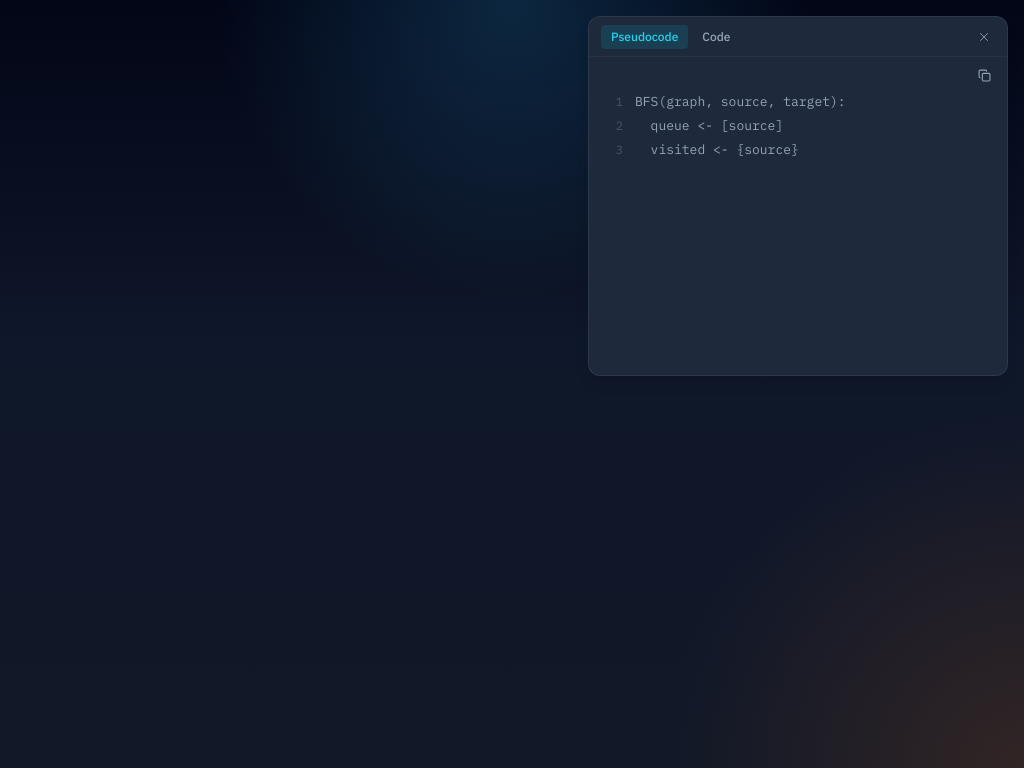
Test: FloatingCodePanel › switches to code tab when clicked
Step 1. Click the button "Code" → click(716, 36), box left=692, top=24, right=740, bottom=48
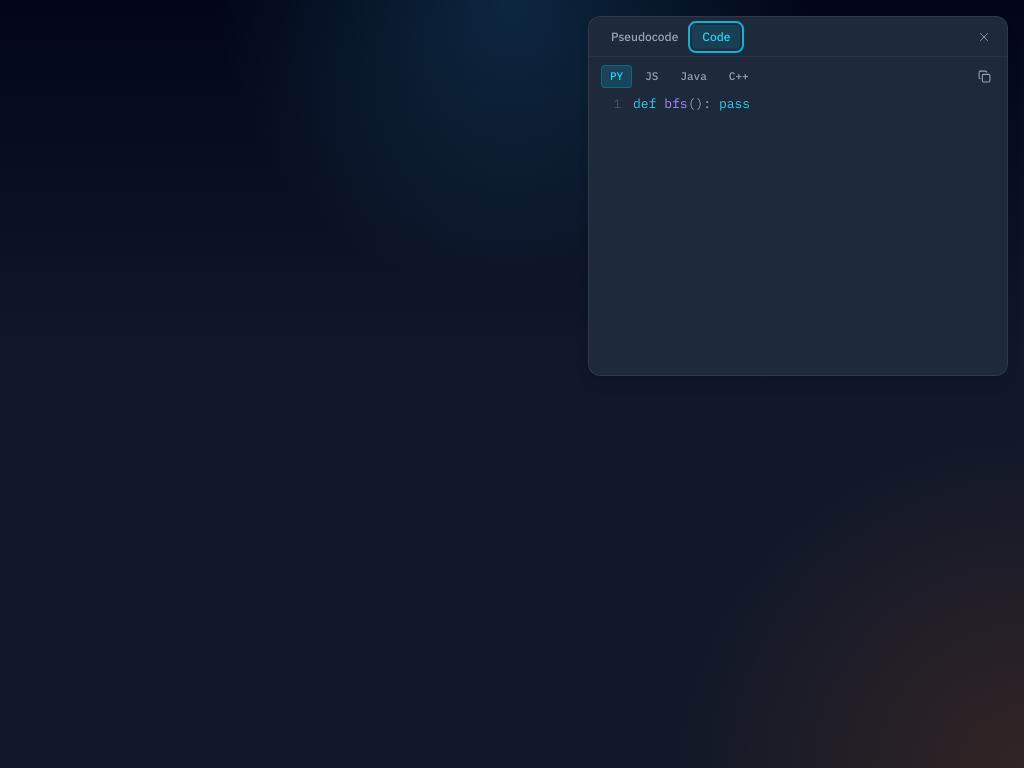
expect the button "PY" is shown: met, box left=601, top=65, right=632, bottom=88
